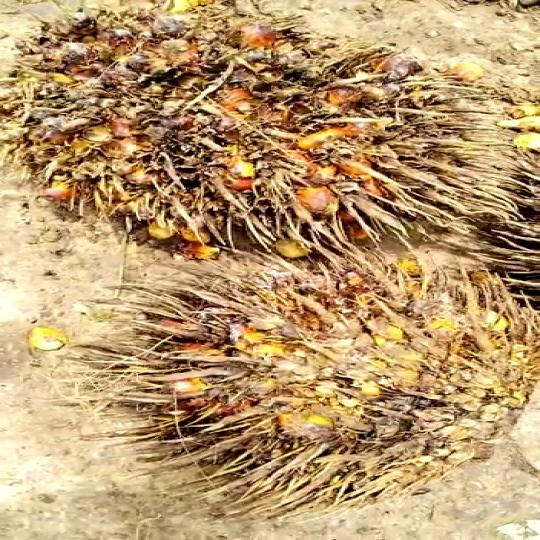terlalu masak: (0, 7, 497, 256), (75, 252, 535, 512)
